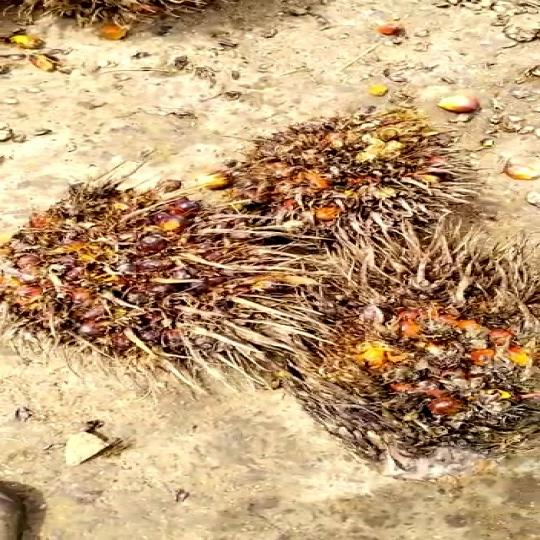terlalu masak: (264, 254, 540, 450), (0, 170, 291, 347), (188, 115, 478, 248)
